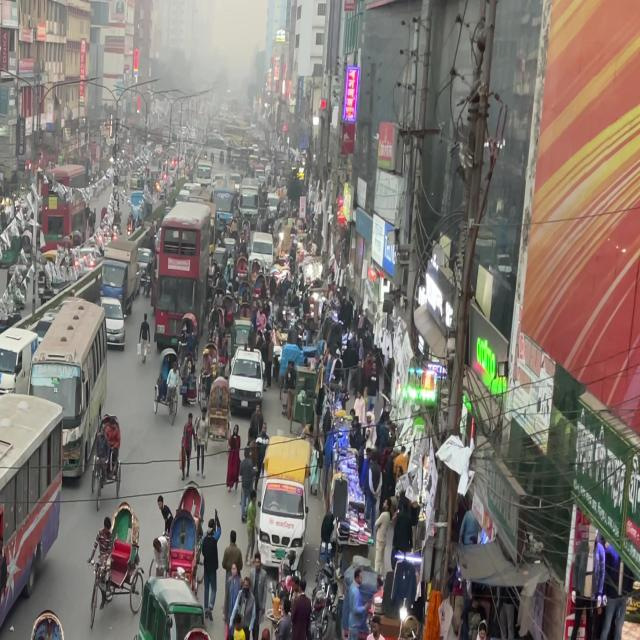bus: (0, 277, 103, 481), (0, 387, 71, 640), (26, 348, 100, 485), (151, 202, 213, 355)
car: (252, 425, 323, 565), (224, 328, 268, 412), (107, 290, 127, 347)
van: (98, 234, 140, 313)
